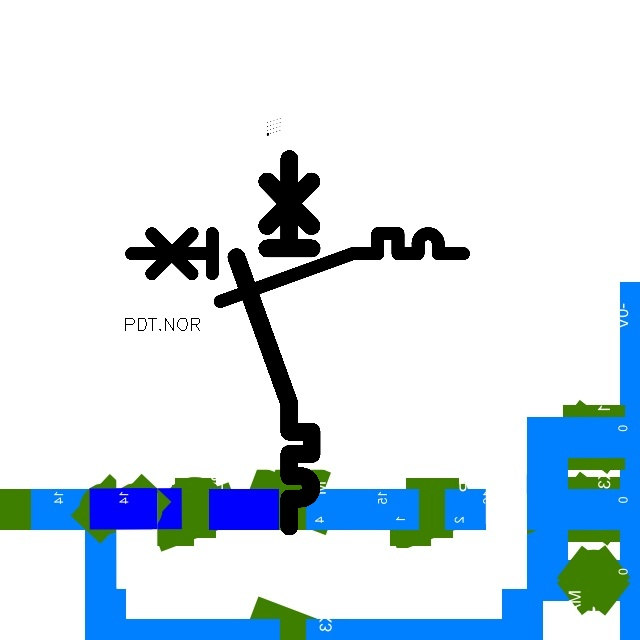interruptor_termomagnetico: (227, 149, 321, 535), (123, 225, 472, 310)
